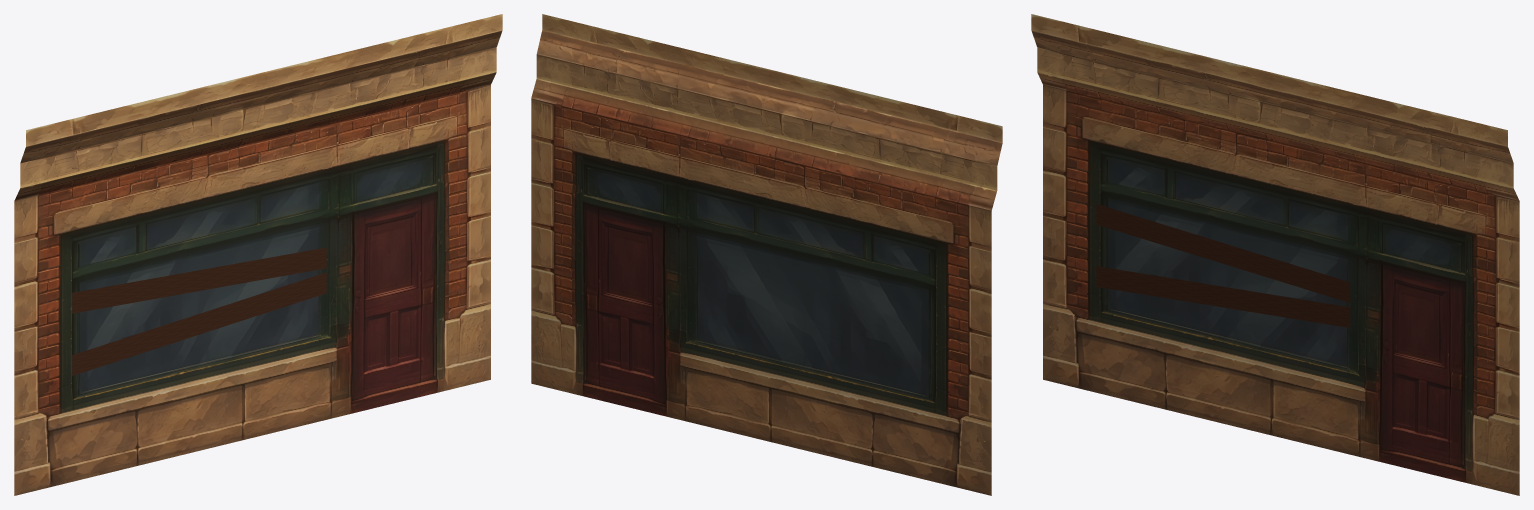
File: BRK_Damaged_G_Bay6.fbx
3 views of the same model, side by side, from view 1: azimuth 30°, elevation 25°; view 2: azimuth 150°, elevation 25°; view 3: azimuth 330°, elevation 25° (orthographic). The views are drawn at different scales.
Parts seen in each view (by area): view 1: BRK_Damaged_G_Bay6; view 2: BRK_Damaged_G_Bay6; view 3: BRK_Damaged_G_Bay6.
Part boxes in pixels (x1,y1,x2,y2): BRK_Damaged_G_Bay6: (14, 14, 502, 495); BRK_Damaged_G_Bay6: (531, 14, 1002, 495); BRK_Damaged_G_Bay6: (1031, 14, 1519, 495).
Bounding box in the file's own units: 6 × 0.25 × 4.5.
1 material, 1 textured.
